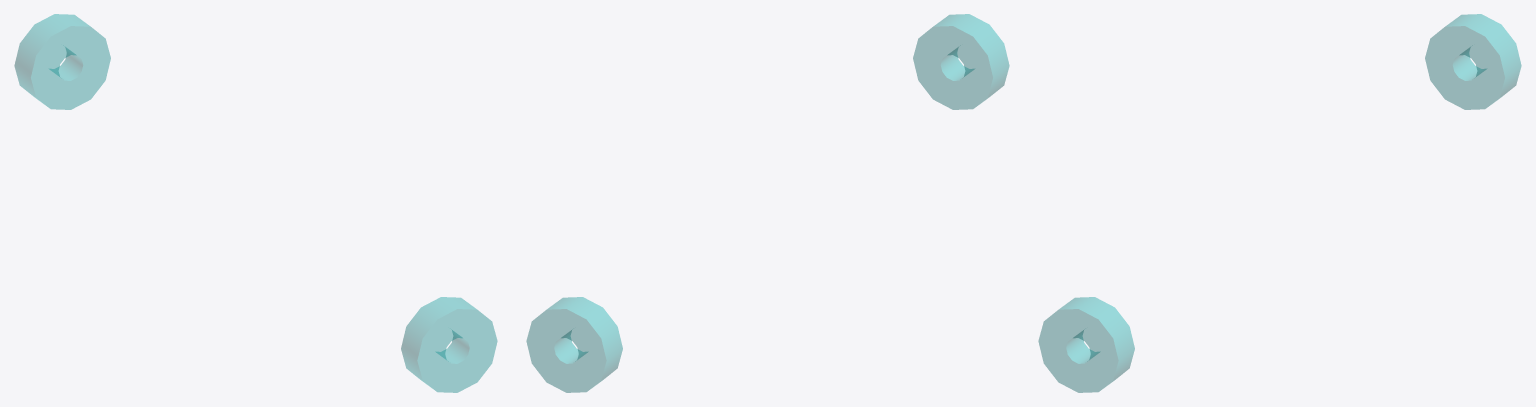
The model's file is LumiCal.gltf.
3 renders of one model, left to right at view 1: azimuth 30°, elevation 25°; view 2: azimuth 150°, elevation 25°; view 3: azimuth 330°, elevation 25°, orthographic.
Visible parts, largest first — view 1: LumiCal_envelope_0, LumiCal_envelope_1; view 2: LumiCal_envelope_0, LumiCal_envelope_1; view 3: LumiCal_envelope_0, LumiCal_envelope_1.
Part boxes in pixels (left/top/right/bottom): LumiCal_envelope_0: left=401, top=297, right=497, bottom=392; LumiCal_envelope_1: left=14, top=14, right=110, bottom=109; LumiCal_envelope_0: left=913, top=14, right=1009, bottom=109; LumiCal_envelope_1: left=526, top=297, right=622, bottom=392; LumiCal_envelope_0: left=1038, top=297, right=1134, bottom=392; LumiCal_envelope_1: left=1425, top=14, right=1521, bottom=109.
Size of the model in its own units: 39 by 39 by 339.
